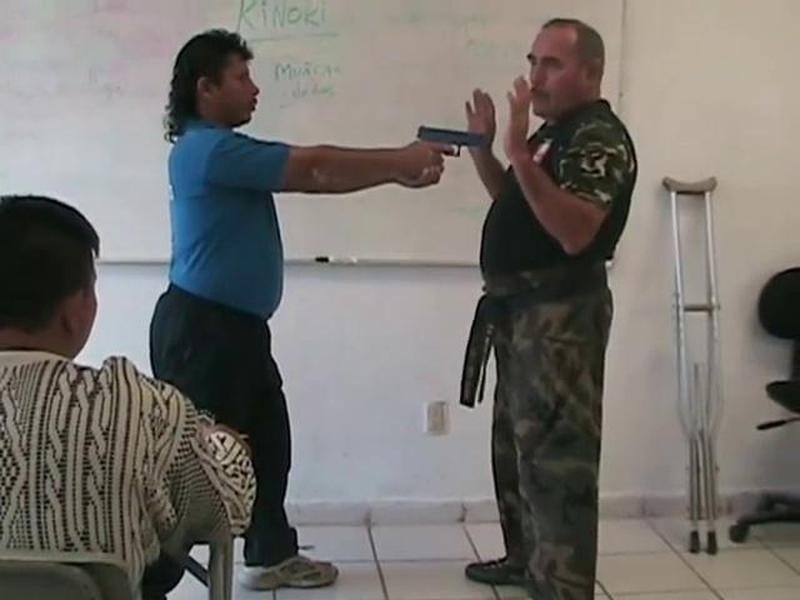Pistola: (393, 121, 491, 190)
